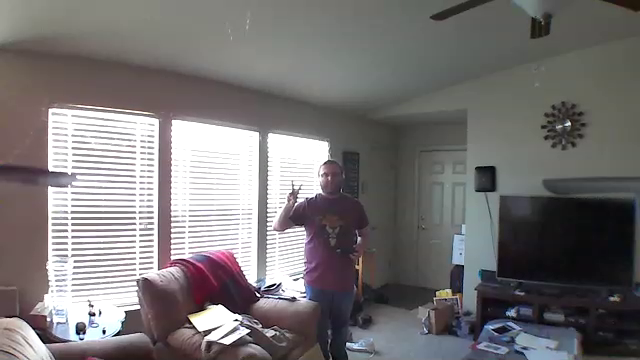peace: (285, 178, 304, 206)
